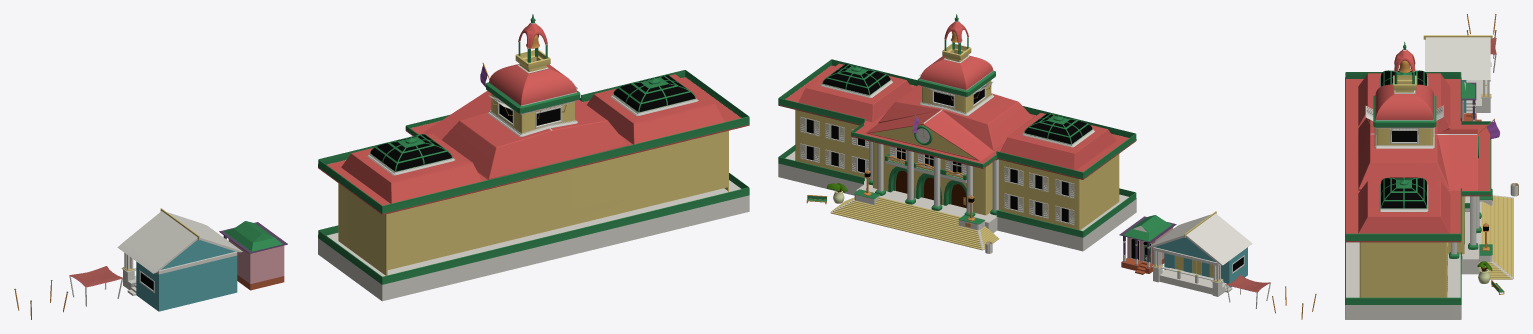
File: Enviro_Island_CreoleSet_Rough.fbx
3 views of the same model, side by side, from view 1: azimuth 30°, elevation 25°; view 2: azimuth 150°, elevation 25°; view 3: azimuth 270°, elevation 25° (orthographic). The views are drawn at different scales.
Visible parts, largest first — view 1: Walls, Foundation_Base, Bungalow_Main, Center_Roof, Railing_Roof, Foundation_Rail, Roof_Belltower, Right_Roof, Left_Roof, Shotgun_MainHouse, Dome_Glass (×2), Base_Roof (+5 smaller); view 2: Walls, Center_Roof, Bungalow_Main, Foundation_Base, Stairs, Railing_Roof, Roof_Belltower, Right_Roof, Left_Roof, Dome_Glass (×2), Base_Roof, Foundation_Rail (+10 smaller); view 3: Center_Roof, Walls, Base_Roof, Foundation_Base, Bungalow_Main, Left_Roof, Roof_Belltower, Stairs, Railing_Roof, Right_Roof, Dome_Glass (×2), Foundation_Rail (+15 smaller).
Part boxes in pixels (x1,y1,x2,y2): Walls: (338,130,728,275); Foundation_Base: (318,180,749,301); Bungalow_Main: (117,208,242,311); Center_Roof: (423,62,628,179); Railing_Roof: (318,70,749,213); Foundation_Rail: (318,173,749,284); Roof_Belltower: (486,61,580,133); Right_Roof: (341,133,481,203); Left_Roof: (587,74,724,144); Shotgun_MainHouse: (219,221,287,290); Dome_Glass (×2): (370,75,694,171); Base_Roof: (318,77,749,214); Walls: (795,110,1119,230); Center_Roof: (866,85,1033,161); Bungalow_Main: (1148,211,1252,296); Foundation_Base: (778,151,1136,251); Stairs: (830,194,999,250); Railing_Roof: (778,59,1136,178); Roof_Belltower: (917,53,995,112); Right_Roof: (1000,113,1116,170); Left_Roof: (798,63,912,122); Dome_Glass (×2): (823,64,1091,143); Base_Roof: (778,65,1136,179); Foundation_Rail: (778,145,1136,237); Center_Roof: (1358,118,1494,190); Walls: (1359,196,1464,297); Base_Roof: (1345,79,1491,242); Foundation_Base: (1345,212,1479,319); Bungalow_Main: (1423,35,1492,113); Left_Roof: (1358,180,1450,233); Roof_Belltower: (1373,84,1436,145); Stairs: (1479,195,1513,279); Railing_Roof: (1345,72,1491,240); Right_Roof: (1358,73,1450,126); Dome_Glass (×2): (1381,71,1426,208); Foundation_Rail: (1345,242,1462,304).
Size of the model in its own units: 86.77 by 27.84 by 22.16.
